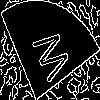W: (24, 24, 73, 90)
